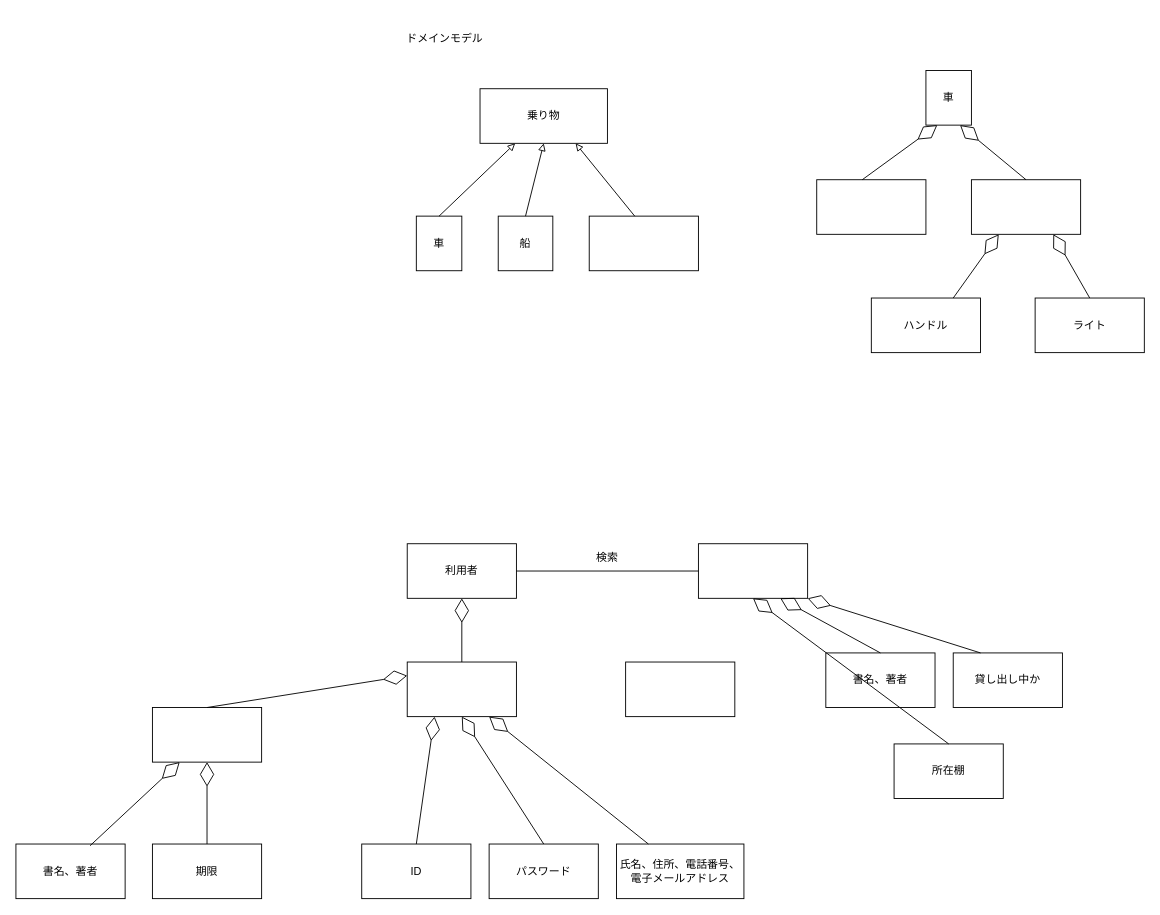
This 1160x915 diagram has some shape labels left out. The shapes that lost their labels are listed below. From the top down, each one's centre as x and y in pixels, then its label:
point 871,206: エンジン
point 1026,206: ボディ
point 643,243: 飛行機
point 753,570: 図書
point 461,689: 図書カード
point 680,689: 貸し出し予約
point 207,734: 借りている本
